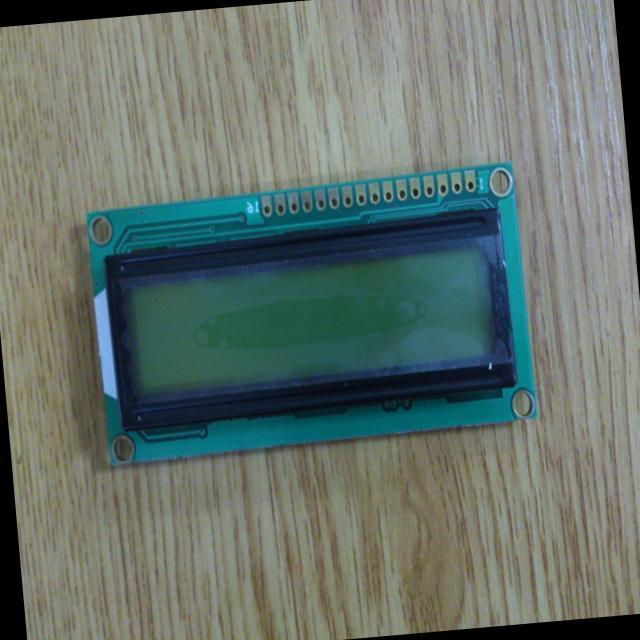lcd: (84, 160, 541, 466)
